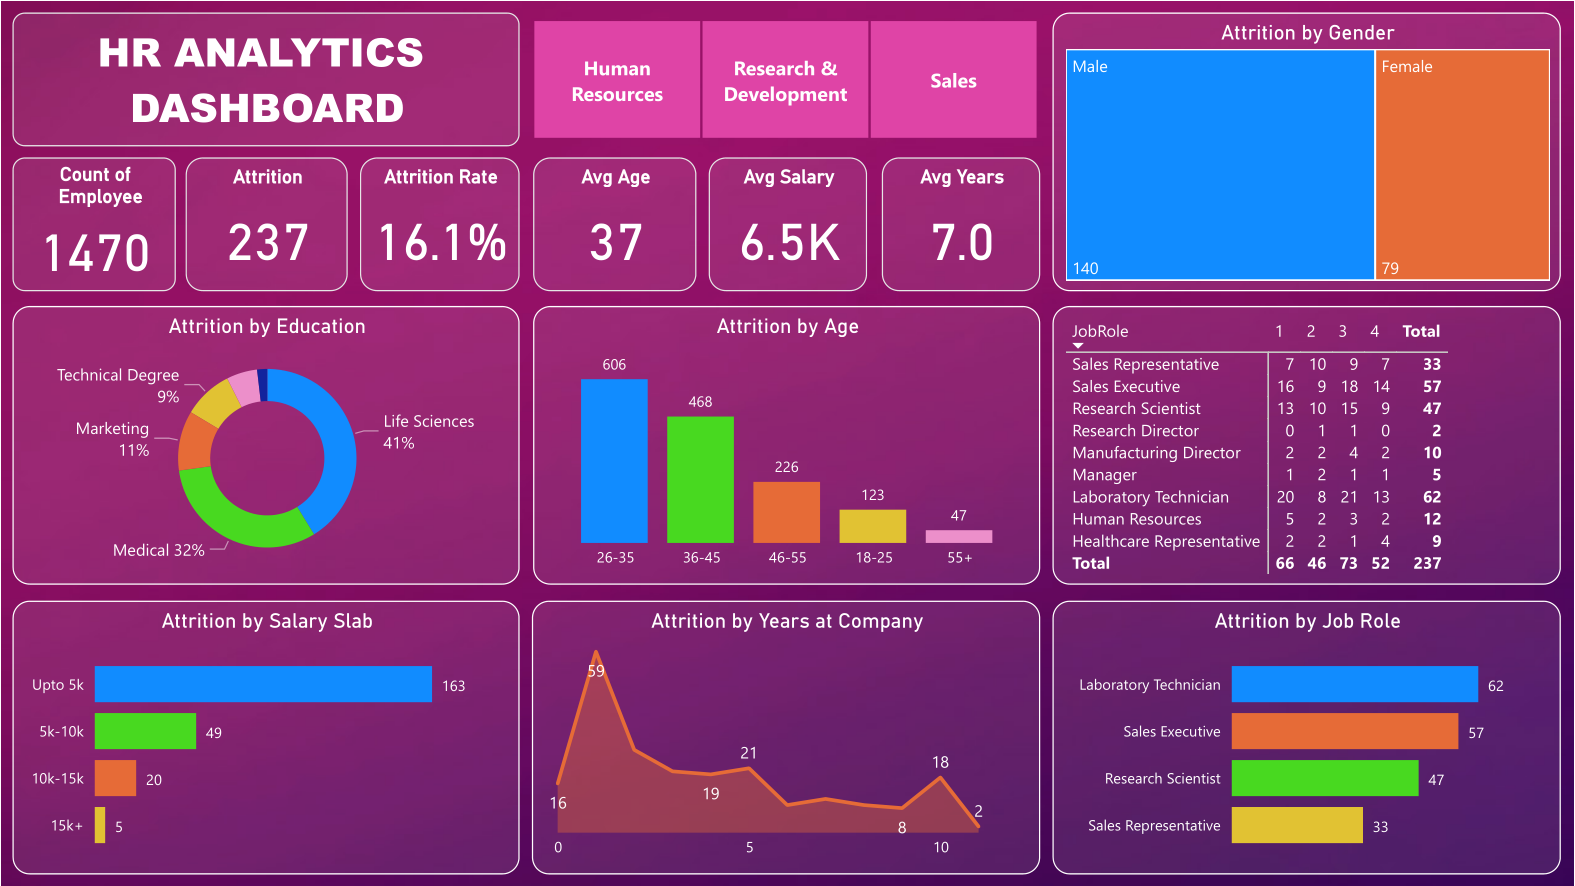

The dashboard page shown, as its layout file describes it:
{"tool":"powerbi","page":{"name":"Page 1","canvas":[1280,720],"ordinal":0},"visuals":[{"type":"card","title":"Count of Employee","fields":{"Values":["CountNonNull(HR_Analytics.EmpID)"]},"box":[9.4,127.1,132.3,109.4],"z":0},{"type":"card","title":"Attrition","fields":{"Values":["Sum(HR_Analytics.Attrition Count)"]},"box":[150,127.1,132.3,109.4],"z":1000},{"type":"card","title":"Attrition Rate","fields":{"Values":["HR_Analytics.AttritionRate"]},"box":[291.7,127.1,130.2,109.4],"z":2000},{"type":"card","title":"Avg Age","fields":{"Values":["Avg(HR_Analytics.Age)"]},"box":[433.3,127.1,132.3,109.4],"z":3000},{"type":"card","title":"Avg Salary","fields":{"Values":["Avg(HR_Analytics.MonthlyIncome)"]},"box":[576,127.1,129.2,109.4],"z":4000},{"type":"card","title":"Avg Years","fields":{"Values":["Avg(HR_Analytics.YearsAtCompany)"]},"box":[716.7,127.1,129.2,109.4],"z":5000},{"type":"donutChart","title":"Attrition by Education","fields":{"Category":["HR_Analytics.EducationField"],"Y":["CountNonNull(HR_Analytics.Attrition)"]},"box":[9.4,247.9,412.5,227.1],"z":6000},{"type":"columnChart","title":"Attrition by Age","fields":{"Category":["HR_Analytics.AgeGroup"],"Y":["CountNonNull(HR_Analytics.Attrition)"]},"box":[433.3,247.9,412.5,227.1],"z":7000},{"type":"pivotTable","fields":{"Rows":["HR_Analytics.JobRole"],"Columns":["HR_Analytics.JobSatisfaction"],"Values":["Sum(HR_Analytics.Attrition Count)"]},"box":[856.2,247.9,413.5,227.1],"z":8000},{"type":"barChart","title":"Attrition by Salary Slab","fields":{"Category":["HR_Analytics.SalarySlab"],"Y":["Sum(HR_Analytics.Attrition Count)"]},"box":[9.4,487.5,412.5,224],"z":9000},{"type":"barChart","title":"Attrition by Job Role","fields":{"Category":["HR_Analytics.JobRole"],"Y":["Sum(HR_Analytics.Attrition Count)"]},"box":[856.2,487.5,413.5,224],"z":10000},{"type":"areaChart","title":"Attrition by Years at Company","fields":{"Category":["HR_Analytics.YearsAtCompany"],"Y":["Sum(HR_Analytics.Attrition Count)"]},"box":[432.3,487.5,413.5,224],"z":11000},{"type":"treemap","title":"Attrition by Gender","fields":{"Group":["HR_Analytics.Gender"],"Values":["Sum(HR_Analytics.Attrition Count)"]},"box":[856.2,9.4,413.5,227.1],"z":12000},{"type":"slicer","fields":{"Values":["HR_Analytics.Department"]},"box":[408.3,9.4,458.3,108.3],"z":13000},{"type":"textbox","box":[9.4,9.4,412.5,108.3],"z":14000}]}

Visuals, with their boxes in screenshot pixels (x1, y1, x2, y2), scaled from the page's 1280x720 canvas onto the 1575x886 screenshot:
"Count of Employee" card: [12,156,174,291]
"Attrition" card: [185,156,347,291]
"Attrition Rate" card: [359,156,519,291]
"Avg Age" card: [533,156,696,291]
"Avg Salary" card: [709,156,868,291]
"Avg Years" card: [882,156,1041,291]
"Attrition by Education" donutChart: [12,305,519,585]
"Attrition by Age" columnChart: [533,305,1041,585]
pivotTable - HR_Analytics.JobRole x HR_Analytics.JobSatisfaction: [1054,305,1562,585]
"Attrition by Salary Slab" barChart: [12,600,519,876]
"Attrition by Job Role" barChart: [1054,600,1562,876]
"Attrition by Years at Company" areaChart: [532,600,1041,876]
"Attrition by Gender" treemap: [1054,12,1562,291]
slicer - HR_Analytics.Department: [502,12,1066,145]
textbox: [12,12,519,145]
